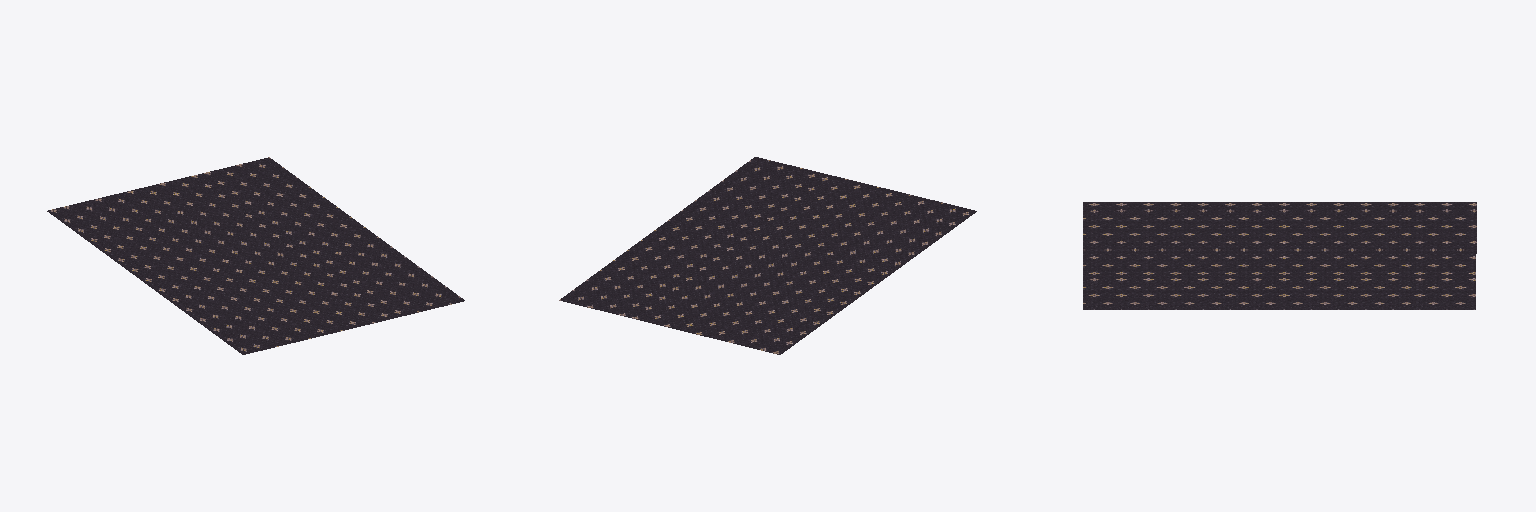
The picture shows the model from 3 angles: view 1: azimuth 30°, elevation 25°; view 2: azimuth 150°, elevation 25°; view 3: azimuth 270°, elevation 25°; orthographic projection.
Parts seen in each view (by area): view 1: floor; view 2: floor; view 3: floor.
Boxes of the visible parts, x1,y1,x2,y2 form: floor: [47, 157, 464, 354]; floor: [559, 157, 976, 354]; floor: [1083, 202, 1476, 309].
Size of the model in its own units: 4.43 by 0 by 6.8.
1 materials, 1 textured.